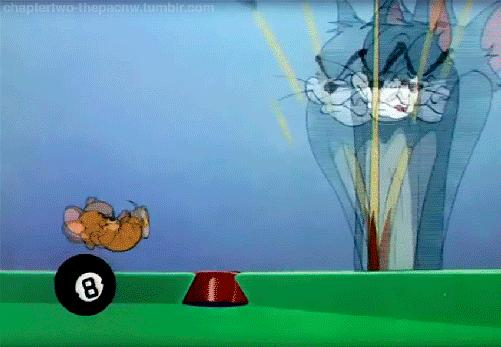jerry: (60, 195, 151, 254)
